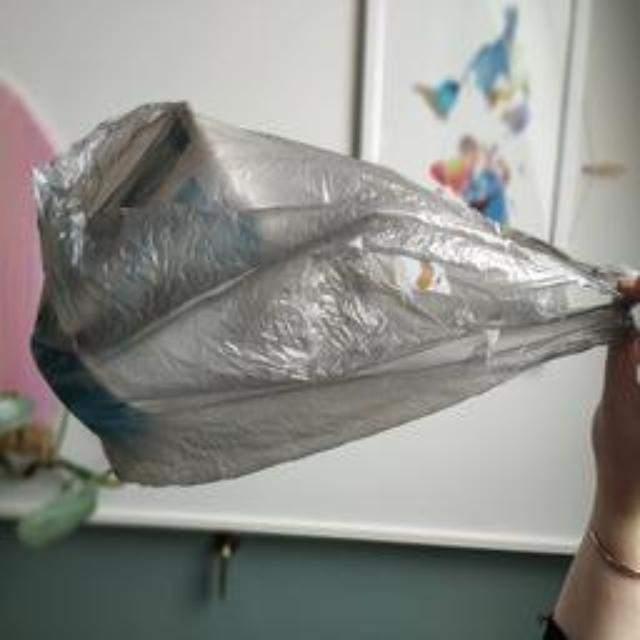Bolsa-de-nilon: (29, 102, 640, 489)
